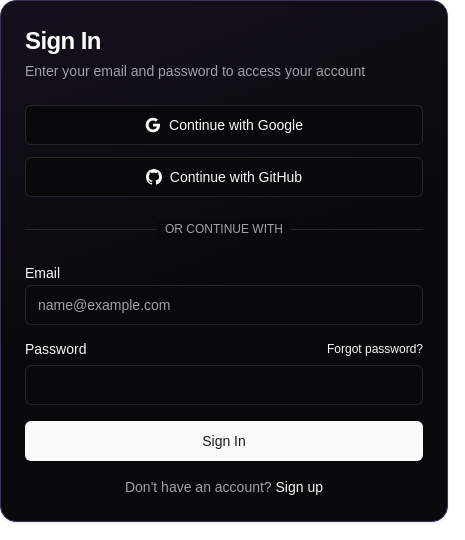
Scenario: LoginForm › disables button while submitting
This screenshot has width=465, height=540.
Type "test@test.com" into the field labelled "Email" at [224, 305], box [25, 285, 423, 325]
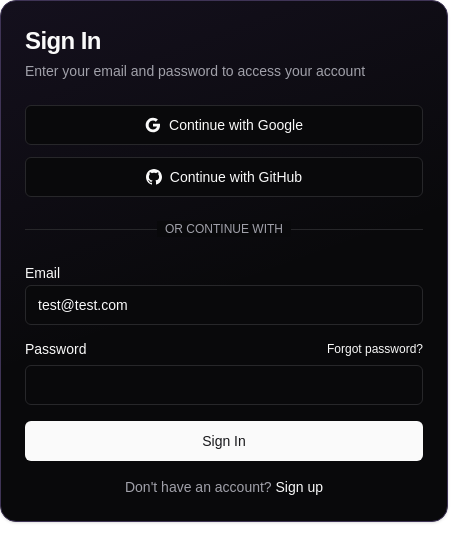
Type "password123" into the password field labelled "Password" at [224, 385], box [25, 365, 423, 405]
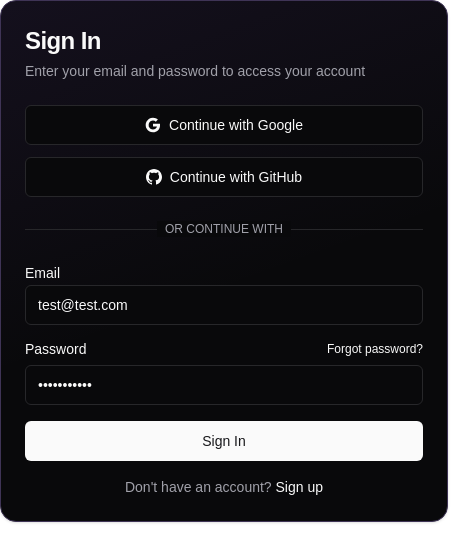
Click the button "Sign In" at [224, 441], box [25, 421, 423, 461]
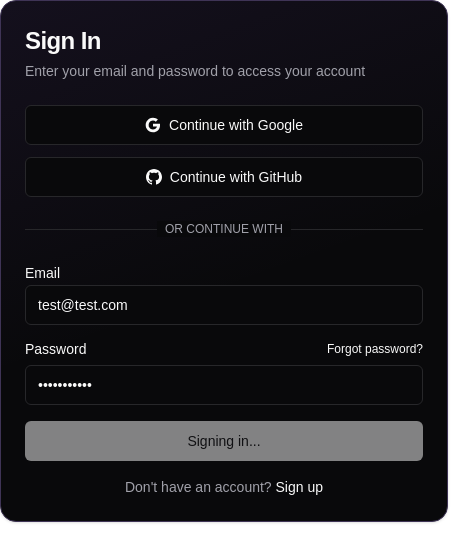
Check: the button "Signing in..." is disabled, box [25, 421, 423, 461]
